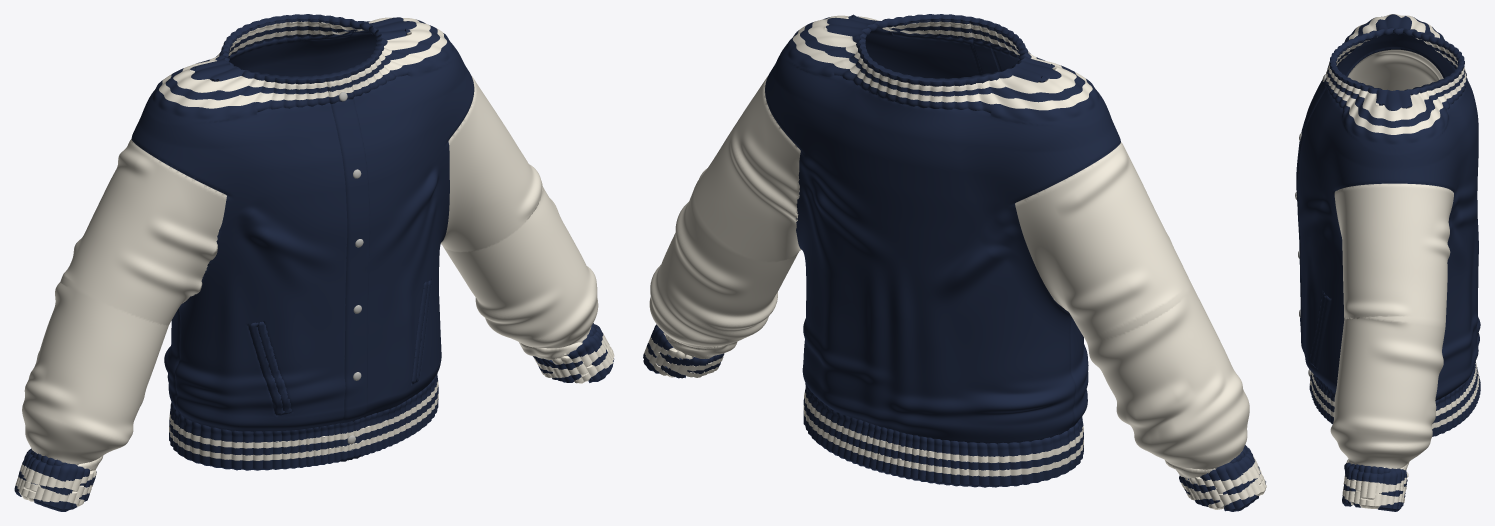
Rendered from 02_chaqueta_varsity.glb.
The picture shows the model from 3 angles, left to right: view 1: azimuth 30°, elevation 25°; view 2: azimuth 150°, elevation 25°; view 3: azimuth 270°, elevation 25°; orthographic projection. The views are drawn at different scales.
Parts seen in each view (by area): view 1: body, secondary, trim; view 2: body, secondary, trim; view 3: body, secondary, trim.
Part boxes in pixels (<box>): body: <box>14,14,614,511</box>; secondary: <box>22,75,598,470</box>; trim: <box>15,17,614,506</box>; body: <box>643,14,1265,511</box>; secondary: <box>649,76,1249,478</box>; trim: <box>644,15,1266,509</box>; body: <box>1296,14,1480,511</box>; secondary: <box>1330,49,1453,470</box>; trim: <box>1310,14,1479,508</box>.
Bounding box in the file's own units: 1.01 × 0.621 × 0.3145.
